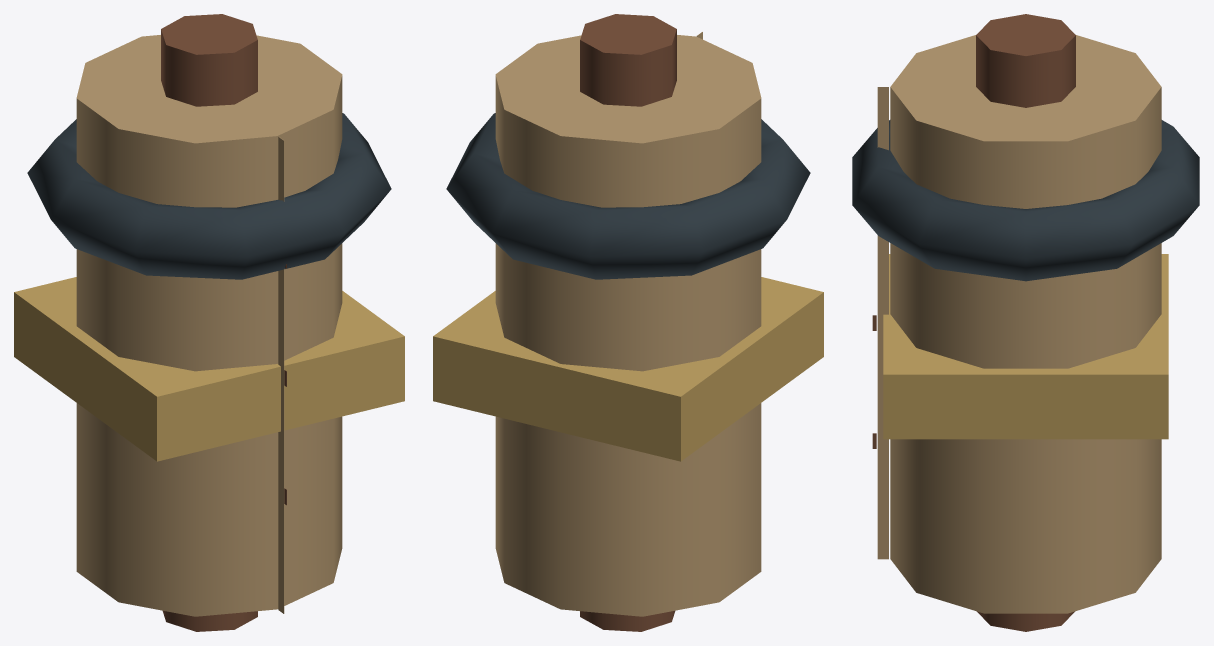
File: scroll-4.glb
3 renders of one model, left to right at view 1: azimuth 30°, elevation 25°; view 2: azimuth 150°, elevation 25°; view 3: azimuth 270°, elevation 25°, orthographic.
Visible parts, largest first — view 1: piece_whole, ReadingSheet; view 2: piece_whole; view 3: piece_whole, ReadingSheet.
Part boxes in pixels (box(x1,y1,x2,y2)): piece_whole: box(14, 14, 404, 631); ReadingSheet: box(278, 136, 286, 613); piece_whole: box(433, 14, 823, 631); piece_whole: box(852, 14, 1199, 631); ReadingSheet: box(872, 87, 888, 559).
Bounding box in the file's own units: 0.256 × 0.445 × 0.2435.
